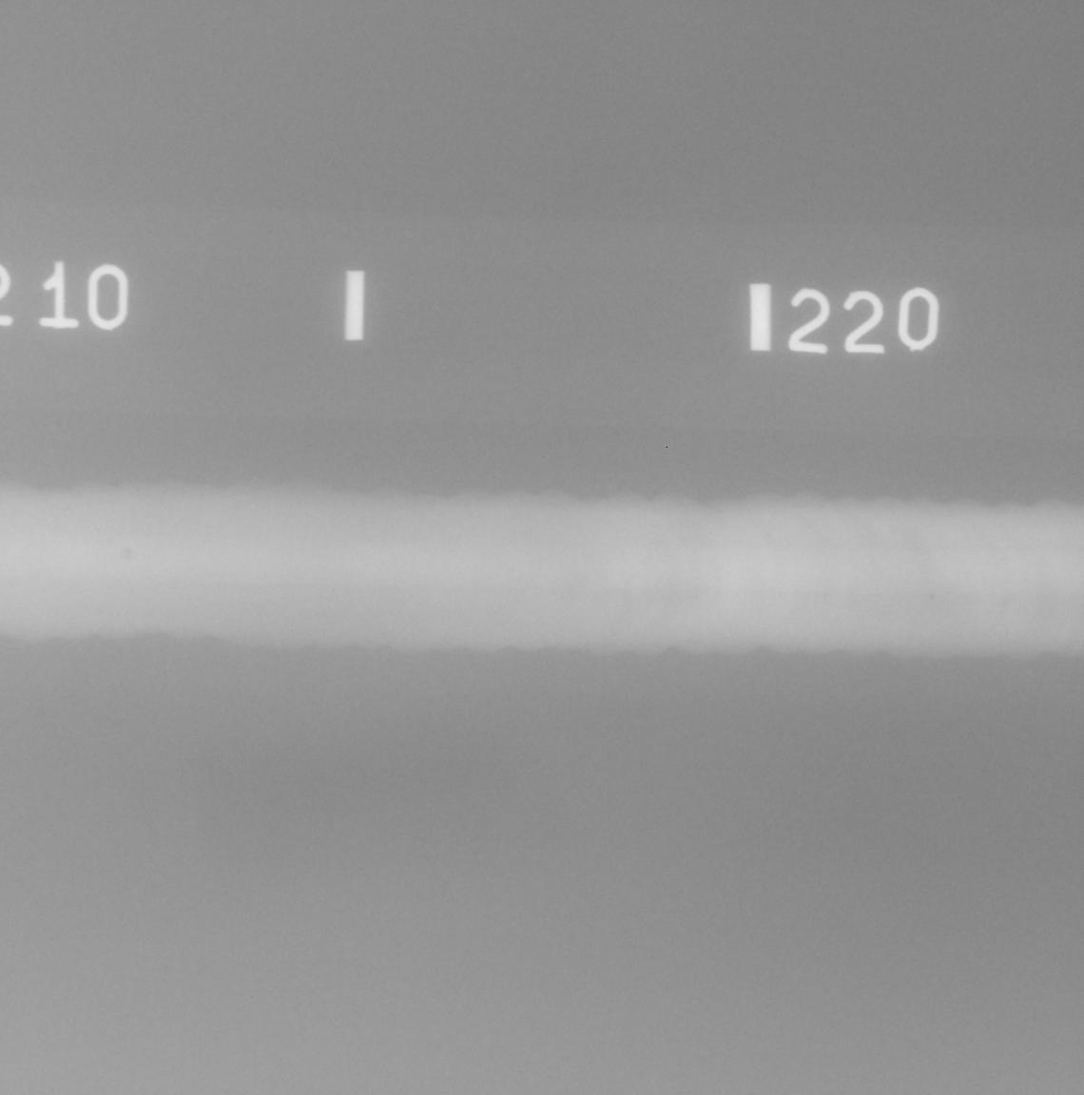Pore/Porosity: (120, 546, 133, 561), (106, 538, 112, 546), (930, 595, 934, 601)
